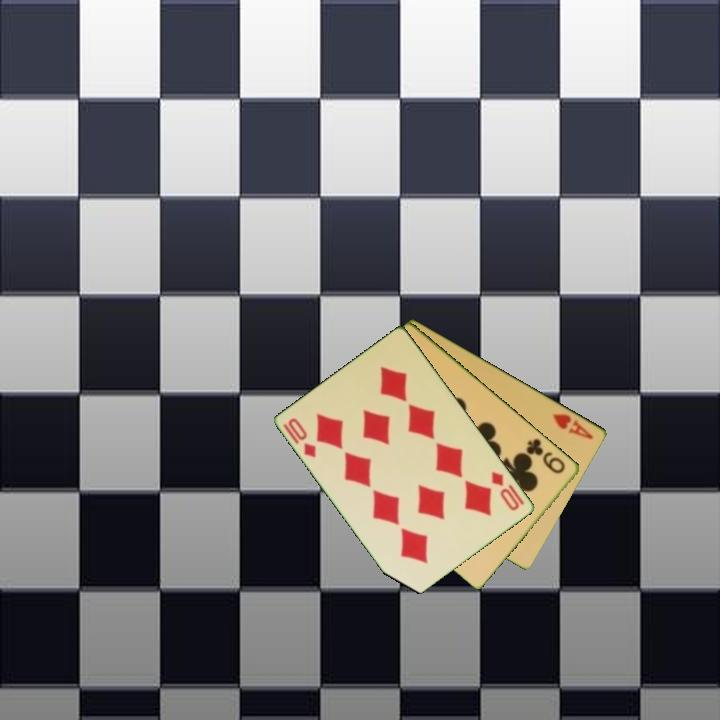10d: (280, 414, 319, 461), (488, 468, 523, 514)
9c: (523, 435, 568, 477)
Ah: (549, 410, 597, 442)
